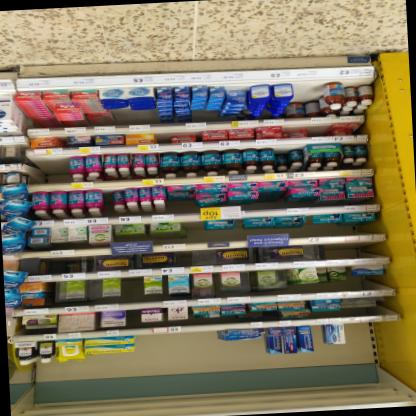empty_space: (137, 329, 220, 359), (347, 318, 395, 344), (178, 247, 213, 265), (322, 240, 352, 259), (34, 154, 52, 182), (354, 240, 380, 257), (123, 275, 142, 296), (186, 219, 204, 239), (56, 152, 68, 181), (53, 253, 89, 261), (309, 122, 324, 136), (157, 131, 168, 142)
